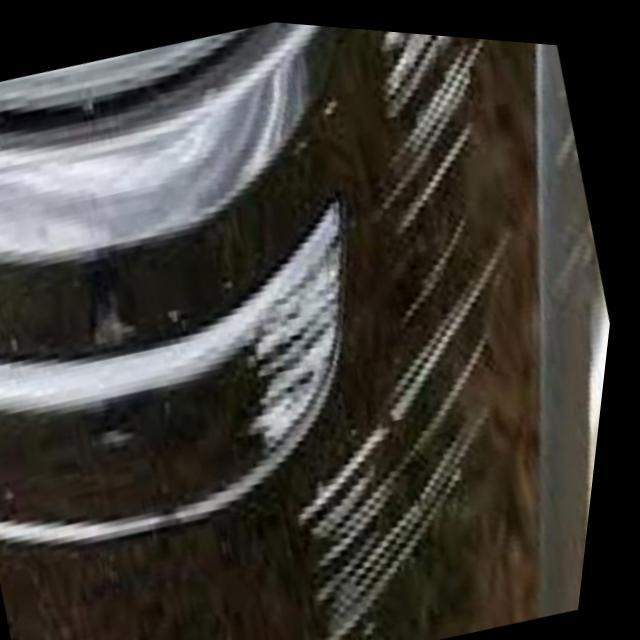rub: (313, 24, 516, 640), (260, 200, 348, 449)
